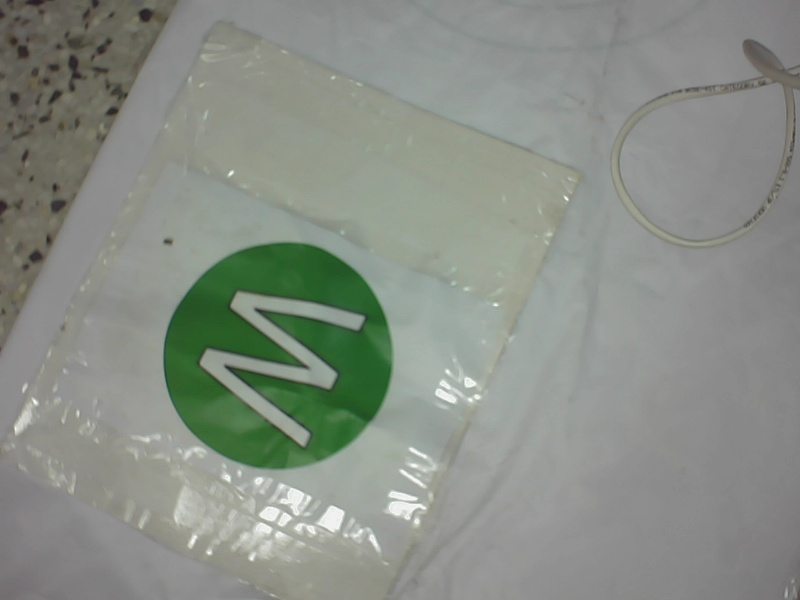areaB: (153, 234, 400, 475)
